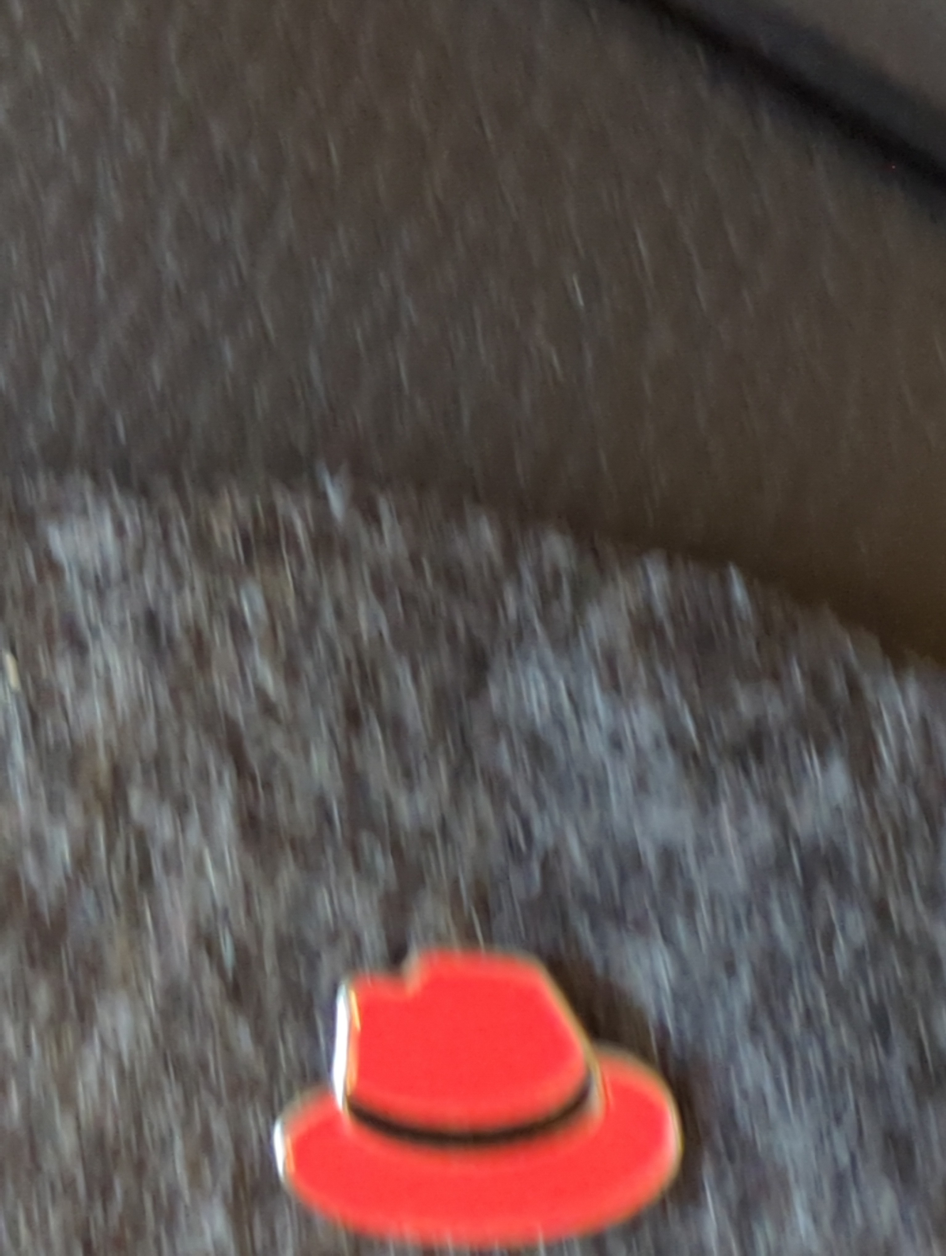Red-Hat: (199, 871, 784, 1256)
